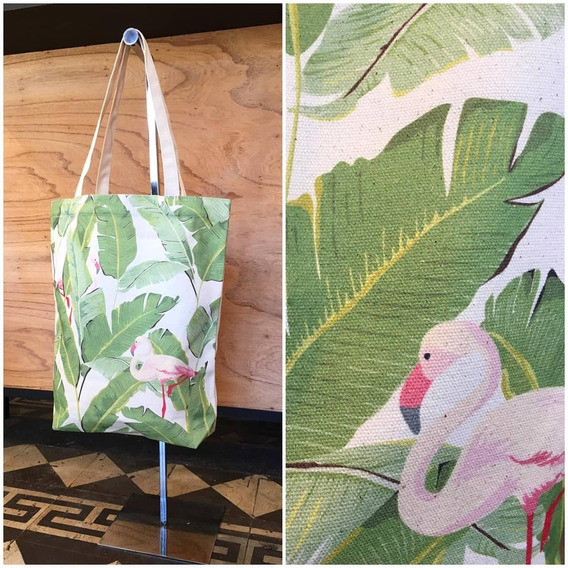cartera: (45, 26, 233, 450)
